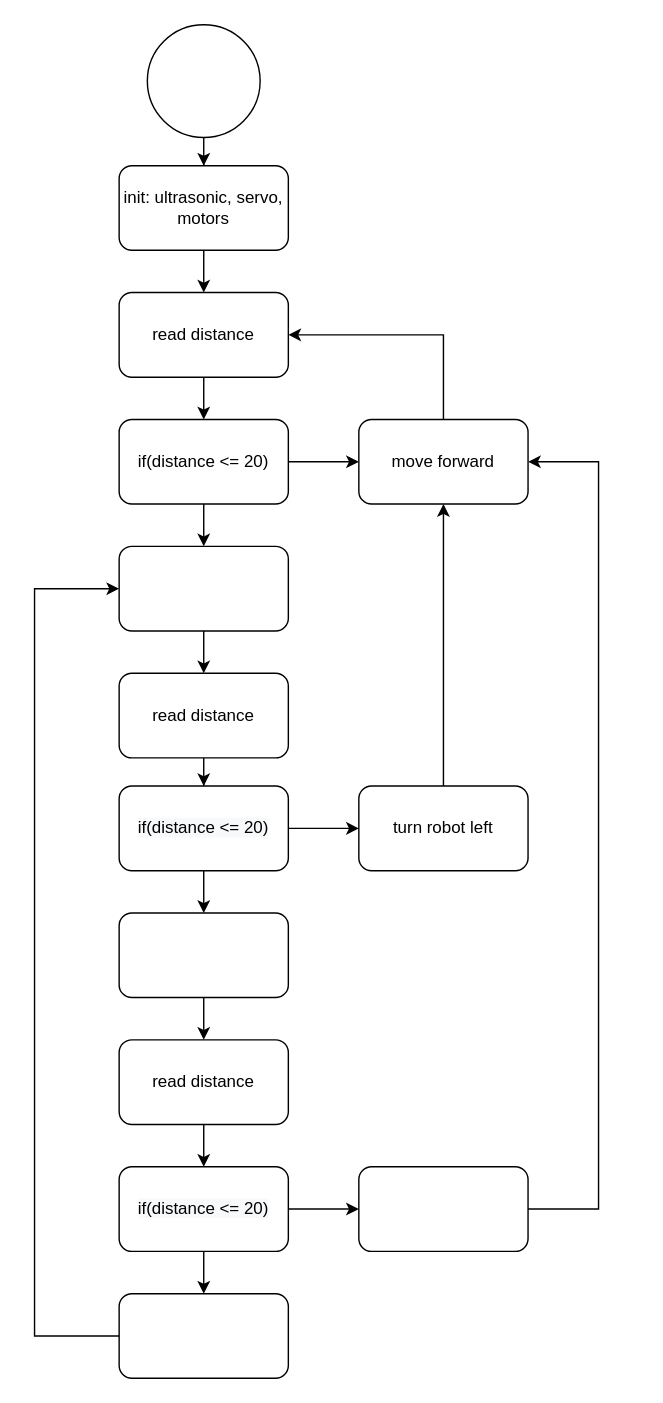
Image size: 663x1403. Some labels were removed from this diagram. The centre of each missing label's shape, as x and y in pixels:
"move backwards" goes at point (203, 1335).
"start" goes at point (203, 80).
"turn robot right" goes at point (442, 1208).
"turn servo left" goes at point (203, 588).
"turn servo right" goes at point (203, 955).
